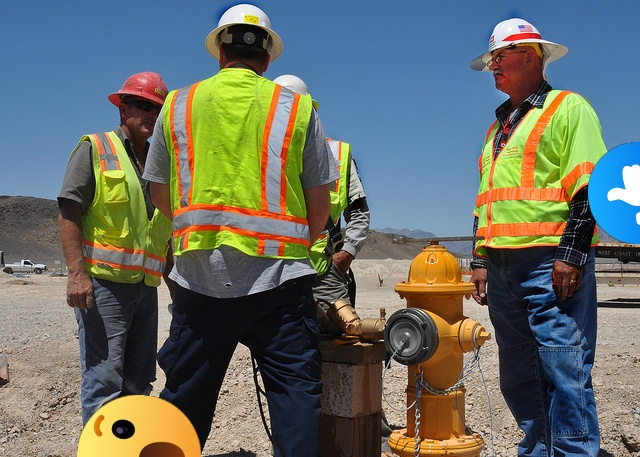like: (588, 142, 640, 244)
wow: (77, 395, 201, 457)
